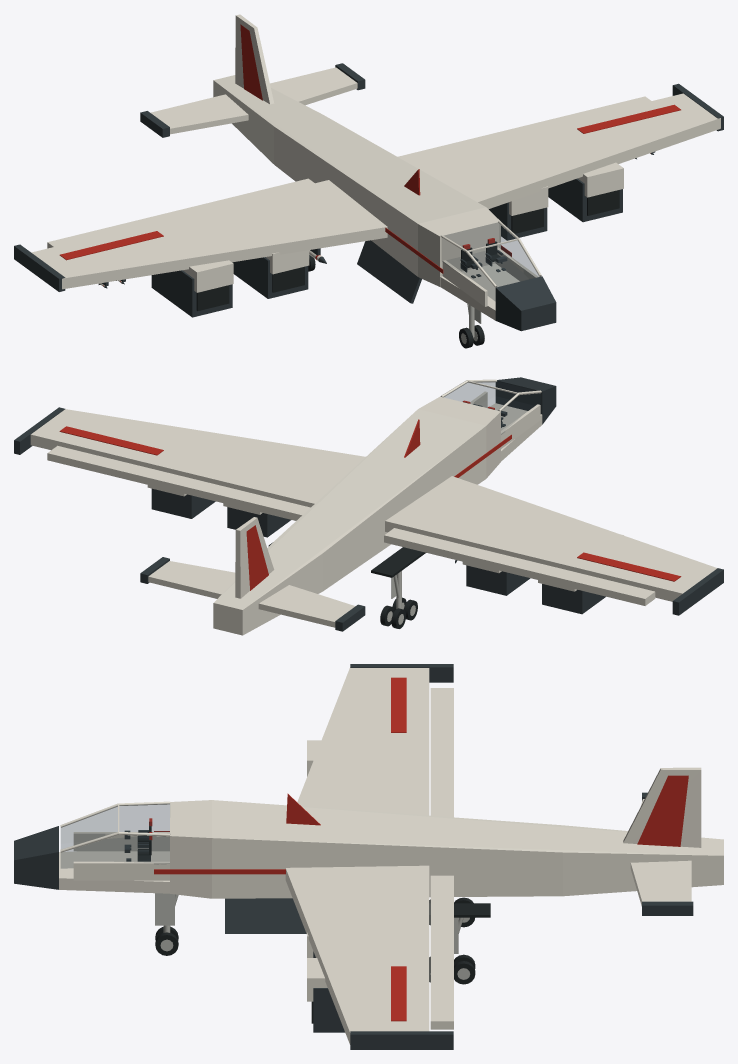
The picture shows the model from 3 angles, top to bottom: view 1: azimuth 30°, elevation 25°; view 2: azimuth 150°, elevation 25°; view 3: azimuth 270°, elevation 25°; orthographic projection. The views are drawn at different scales.
Parts seen in each view (by area): view 1: bomber-fleet-armor, bomber-fleet-machine, bomber-fleet-glass, bomber-fleet-red, bomber-fleet-rubber, flap-left-painted, flap-right-painted; view 2: bomber-fleet-armor, bomber-fleet-machine, flap-left-painted, flap-right-painted, bomber-fleet-red, bomber-fleet-glass, bomber-fleet-rubber; view 3: bomber-fleet-armor, bomber-fleet-machine, bomber-fleet-red, bomber-fleet-glass, flap-right-painted, flap-left-painted, landing-gear-nose-painted, bomber-fleet-rubber.
Boxes of the visible parts, x1=… form: bomber-fleet-armor: x1=31, y1=14, x2=720, y2=320; bomber-fleet-machine: x1=14, y1=63, x2=723, y2=331; bomber-fleet-glass: x1=442, y1=223, x2=539, y2=300; bomber-fleet-red: x1=59, y1=24, x2=680, y2=273; bomber-fleet-rubber: x1=196, y1=190, x2=619, y2=311; flap-left-painted: x1=47, y1=178, x2=314, y2=248; flap-right-painted: x1=397, y1=96, x2=651, y2=161; bomber-fleet-armor: x1=30, y1=379, x2=717, y2=635; bomber-fleet-machine: x1=14, y1=377, x2=723, y2=631; flap-left-painted: x1=384, y1=528, x2=655, y2=605; flap-right-painted: x1=47, y1=445, x2=310, y2=520; bomber-fleet-red: x1=59, y1=419, x2=681, y2=590; bomber-fleet-glass: x1=444, y1=381, x2=540, y2=434; bomber-fleet-rubber: x1=268, y1=542, x2=425, y2=577; bomber-fleet-armor: x1=59, y1=667, x2=723, y2=1044; bomber-fleet-machine: x1=14, y1=664, x2=693, y2=1049; bomber-fleet-red: x1=154, y1=677, x2=688, y2=1021; bomber-fleet-glass: x1=61, y1=804, x2=169, y2=868; flap-right-painted: x1=430, y1=875, x2=453, y2=1029; flap-left-painted: x1=430, y1=688, x2=453, y2=817; landing-gear-nose-painted: x1=155, y1=893, x2=178, y2=932; bomber-fleet-rubber: x1=311, y1=903, x2=490, y2=1023.
Bounding box in the file's own units: 195 × 44.83 × 158.
